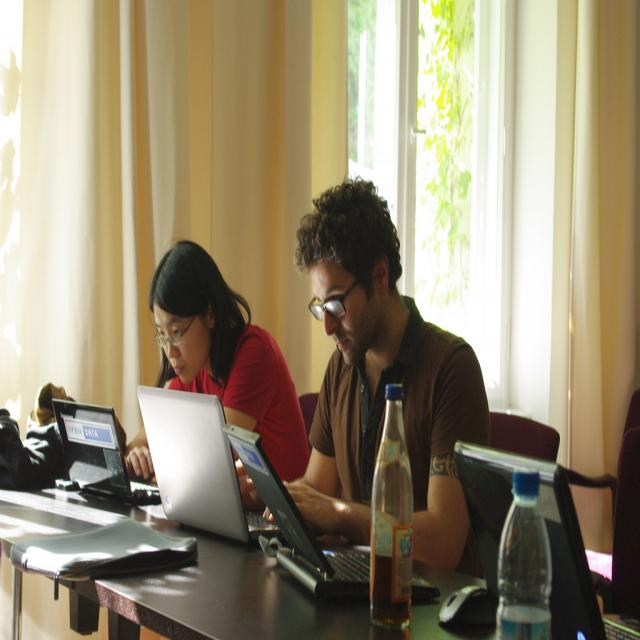chair: (488, 410, 561, 462), (300, 393, 320, 439)
desk: (2, 474, 639, 639)
laptop: (228, 426, 378, 596), (136, 385, 280, 548), (52, 399, 162, 506)
mouse: (438, 585, 487, 628)
person: (284, 180, 490, 570), (150, 236, 310, 482)
